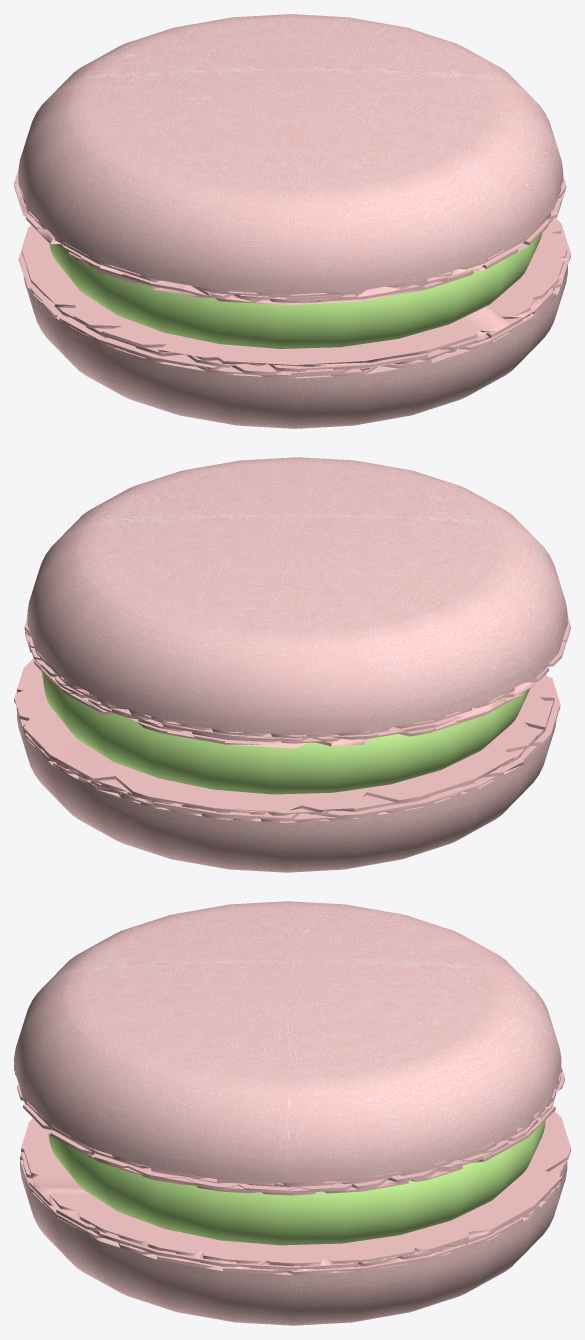
Rendered from rose.dae.
The picture shows the model from 3 angles, top to bottom: view 1: azimuth 30°, elevation 25°; view 2: azimuth 150°, elevation 25°; view 3: azimuth 270°, elevation 25°; orthographic projection.
Parts seen in each view (by area): view 1: Composant_2 (×2), Composant_4 (×2), Composant_3; view 2: Composant_2 (×2), Composant_4 (×2), Composant_3; view 3: Composant_2 (×2), Composant_4 (×2), Composant_3.
Boxes of the visible parts, x1,y1,x2,y2 form: Composant_2 (×2): (14,14,566,305); Composant_4 (×2): (18,218,570,428); Composant_3: (49,233,542,348); Composant_2 (×2): (24,457,570,748); Composant_4 (×2): (14,659,560,872); Composant_3: (41,672,530,794); Composant_2 (×2): (14,901,564,1195); Composant_4 (×2): (20,1111,570,1325); Composant_3: (48,1120,545,1245).
Size of the model in its own units: 1.14 by 1.13 by 0.5612.
